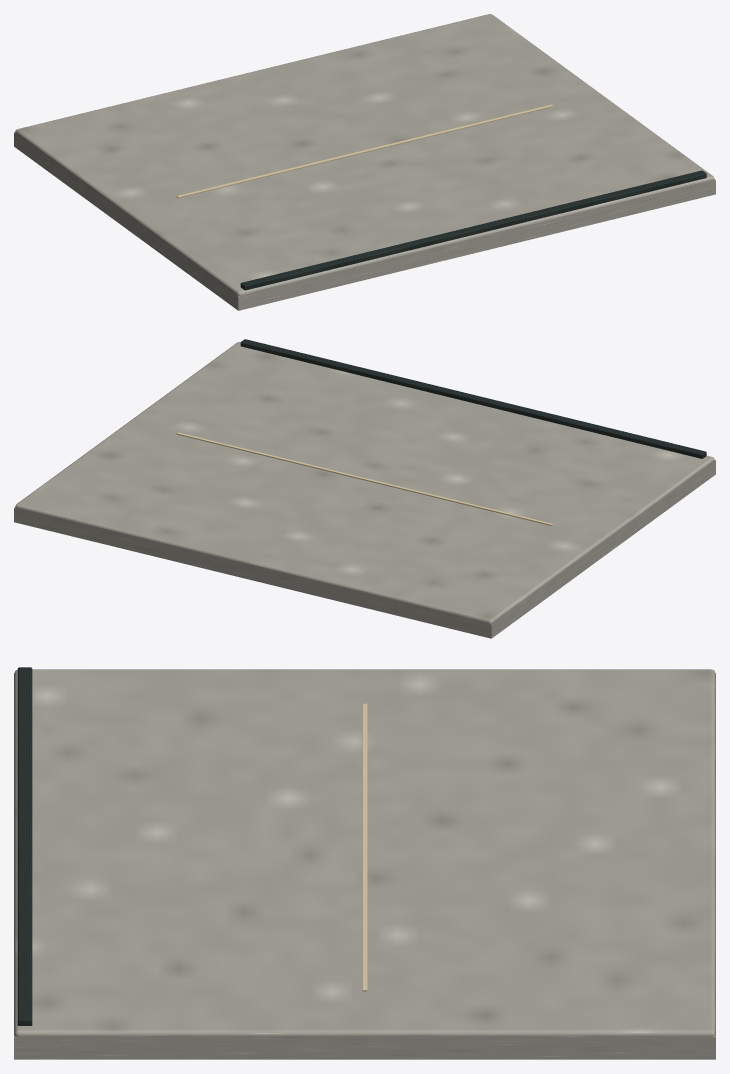
The model's file is stair-landing.glb.
3 views of the same model, one above another, from view 1: azimuth 30°, elevation 25°; view 2: azimuth 150°, elevation 25°; view 3: azimuth 270°, elevation 25° (orthographic). The views are drawn at different scales.
Parts seen in each view (by area): view 1: Landing_Slab, Landing_ClosureSlab, Landing_Edge, Landing_Inlay; view 2: Landing_Slab, Landing_ClosureSlab, Landing_Edge, Landing_Inlay; view 3: Landing_Slab, Landing_ClosureSlab, Landing_Edge, Landing_Inlay.
Boxes of the visible parts, x1,y1,x2,y2 form: Landing_Slab: [15, 14, 714, 307]; Landing_ClosureSlab: [14, 132, 715, 310]; Landing_Edge: [240, 170, 706, 290]; Landing_Inlay: [176, 104, 553, 198]; Landing_Slab: [15, 342, 714, 635]; Landing_ClosureSlab: [14, 460, 715, 638]; Landing_Edge: [240, 339, 706, 458]; Landing_Inlay: [176, 432, 553, 525]; Landing_Slab: [14, 669, 715, 1056]; Landing_ClosureSlab: [14, 673, 715, 1059]; Landing_Edge: [17, 667, 32, 1025]; Landing_Inlay: [362, 703, 367, 991].
Bounding box in the file's own units: 7 × 0.32 × 5.7.
Materials: 3 (2 with a texture image).
